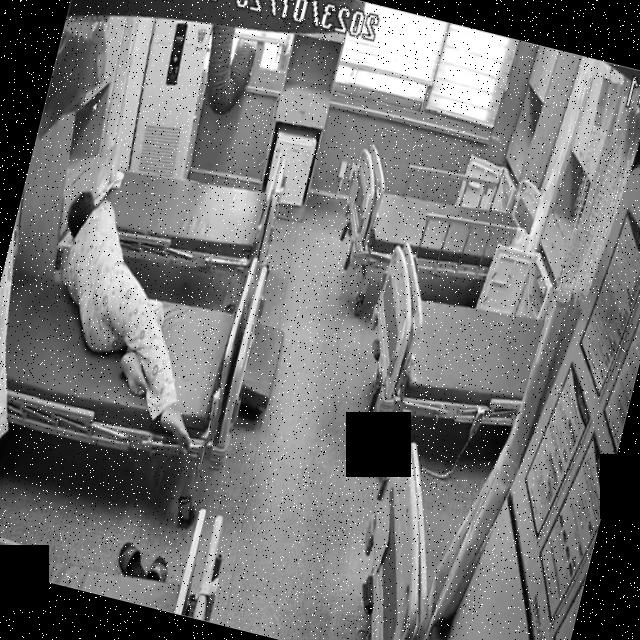bed: (0, 252, 243, 477), (345, 237, 555, 450), (335, 139, 544, 301), (81, 128, 286, 288)
danger: (15, 186, 244, 462)
patient: (17, 188, 244, 458)
